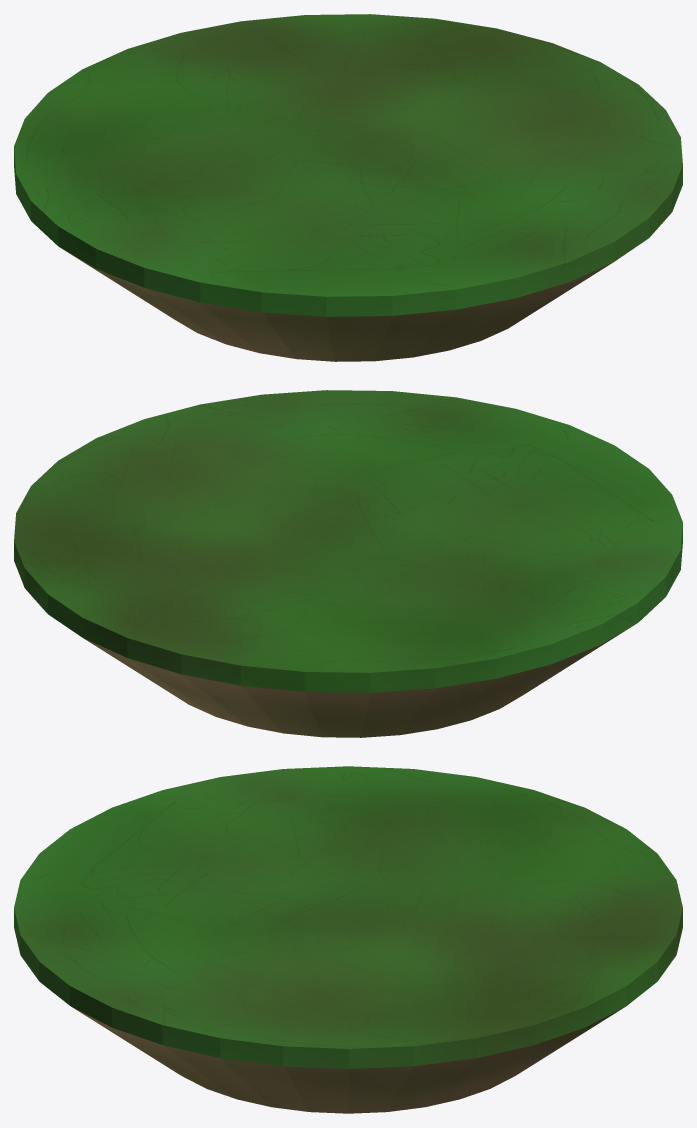
Rendered from test_platform.fbx.
The picture shows the model from 3 angles, top to bottom: view 1: azimuth 30°, elevation 25°; view 2: azimuth 150°, elevation 25°; view 3: azimuth 270°, elevation 25°; orthographic projection.
Parts seen in each view (by area): view 1: Platform; view 2: Platform; view 3: Platform.
Boxes of the visible parts, <box> form: Platform: <box>14,14,682,361</box>; Platform: <box>14,390,682,737</box>; Platform: <box>14,766,682,1113</box>.
Size of the model in its own units: 1000 by 200 by 1000.
